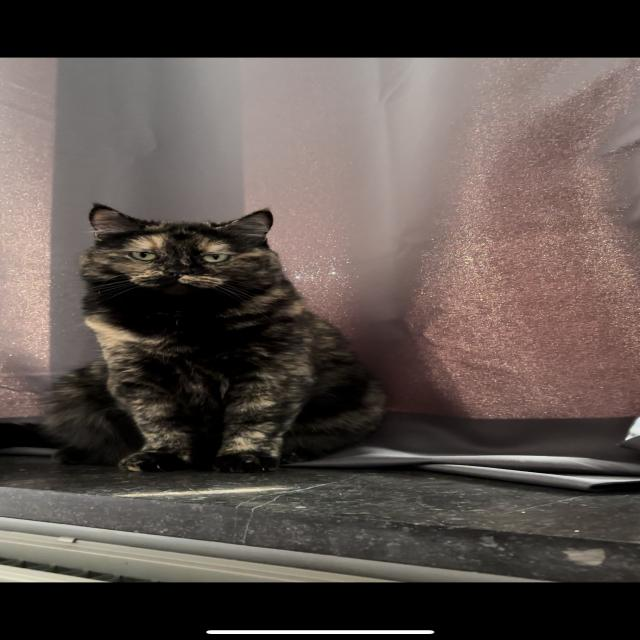authorized: (36, 202, 388, 473)
